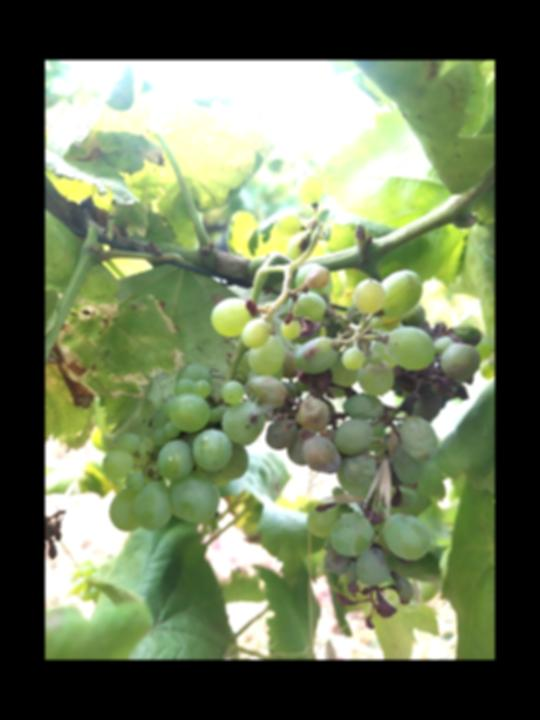grape: (208, 261, 484, 632)
